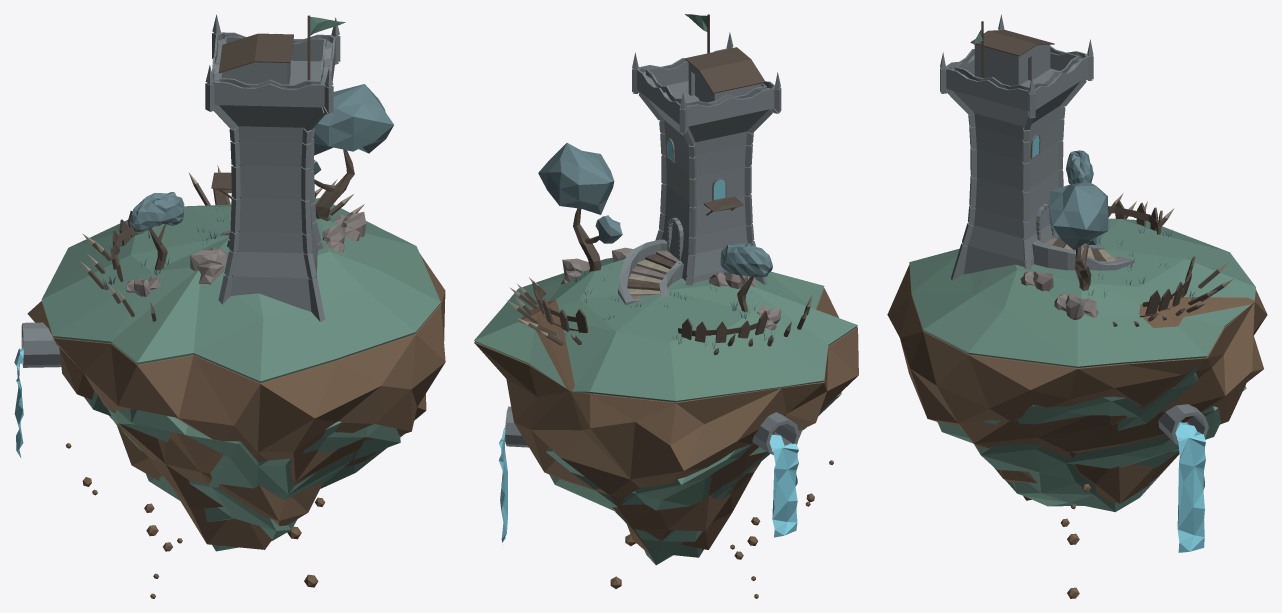
The model's file is tower-floating.obj.
3 views of the same model, side by side, from view 1: azimuth 30°, elevation 25°; view 2: azimuth 150°, elevation 25°; view 3: azimuth 270°, elevation 25° (orthographic). The views are drawn at different scales.
Parts seen in each view (by area): view 1: Ground, Ground_1, Cube.2_3, Leaves_1, Cube_3, Leaves_2, Cylinder, Cube_4, Trunk_1, Plane_1; view 2: Ground, Ground_1, Cube.2_3, Leaves_1, Cube_3, Plane_1, Leaves_2, Cylinder, Extrude.2, Cube_4, Trunk_1, Plane.1 (+2 smaller); view 3: Ground, Ground_1, Cube.2_3, Leaves_1, Plane.1, Cube_4, Extrude.2, Cube_3, Cylinder.1, Leaves_2.
Part boxes in pixels (x1=…): Ground: x1=41, y1=198, x2=440, y2=551; Ground_1: x1=27, y1=254, x2=445, y2=549; Cube.2_3: x1=205, y1=14, x2=340, y2=321; Leaves_1: x1=312, y1=84, x2=393, y2=155; Cube_3: x1=218, y1=33, x2=293, y2=73; Leaves_2: x1=129, y1=192, x2=184, y2=233; Cylinder: x1=21, y1=322, x2=61, y2=367; Cube_4: x1=222, y1=62, x2=290, y2=84; Trunk_1: x1=315, y1=149, x2=354, y2=221; Plane_1: x1=14, y1=348, x2=23, y2=457; Ground: x1=474, y1=257, x2=857, y2=565; Ground_1: x1=474, y1=288, x2=858, y2=554; Cube.2_3: x1=632, y1=32, x2=781, y2=285; Leaves_1: x1=538, y1=143, x2=614, y2=214; Cube_3: x1=684, y1=47, x2=765, y2=93; Plane_1: x1=772, y1=443, x2=798, y2=537; Leaves_2: x1=720, y1=243, x2=772, y2=277; Cylinder: x1=752, y1=412, x2=799, y2=455; Extrude.2: x1=618, y1=239, x2=667, y2=305; Cube_4: x1=688, y1=63, x2=761, y2=102; Trunk_1: x1=573, y1=208, x2=601, y2=271; Plane.1: x1=498, y1=436, x2=507, y2=544; Ground: x1=909, y1=218, x2=1255, y2=512; Ground_1: x1=887, y1=264, x2=1267, y2=503; Cube.2_3: x1=940, y1=14, x2=1093, y2=280; Leaves_1: x1=1048, y1=181, x2=1108, y2=249; Plane.1: x1=1177, y1=434, x2=1205, y2=552; Cube_4: x1=974, y1=44, x2=1050, y2=85; Extrude.2: x1=1032, y1=240, x2=1134, y2=270; Cube_3: x1=970, y1=30, x2=1054, y2=56; Cylinder.1: x1=1158, y1=404, x2=1208, y2=445; Leaves_2: x1=1066, y1=150, x2=1093, y2=184.
Bounding box in the file's own units: 382 × 629 × 392.
